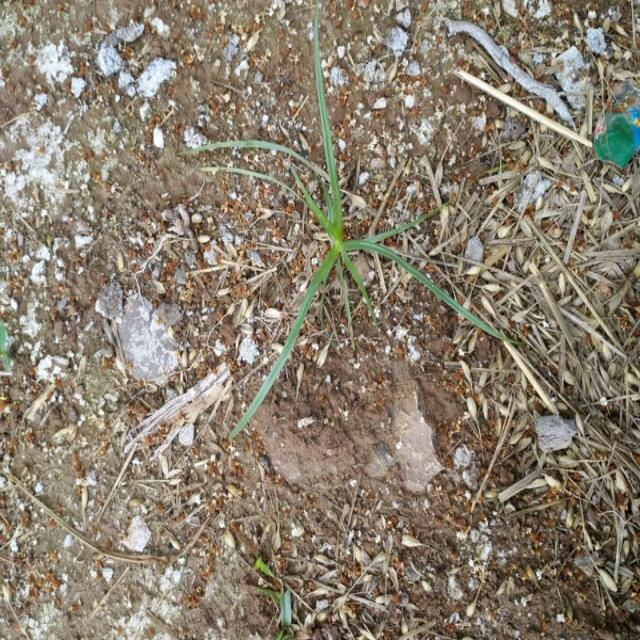sedge: (198, 51, 500, 417)
